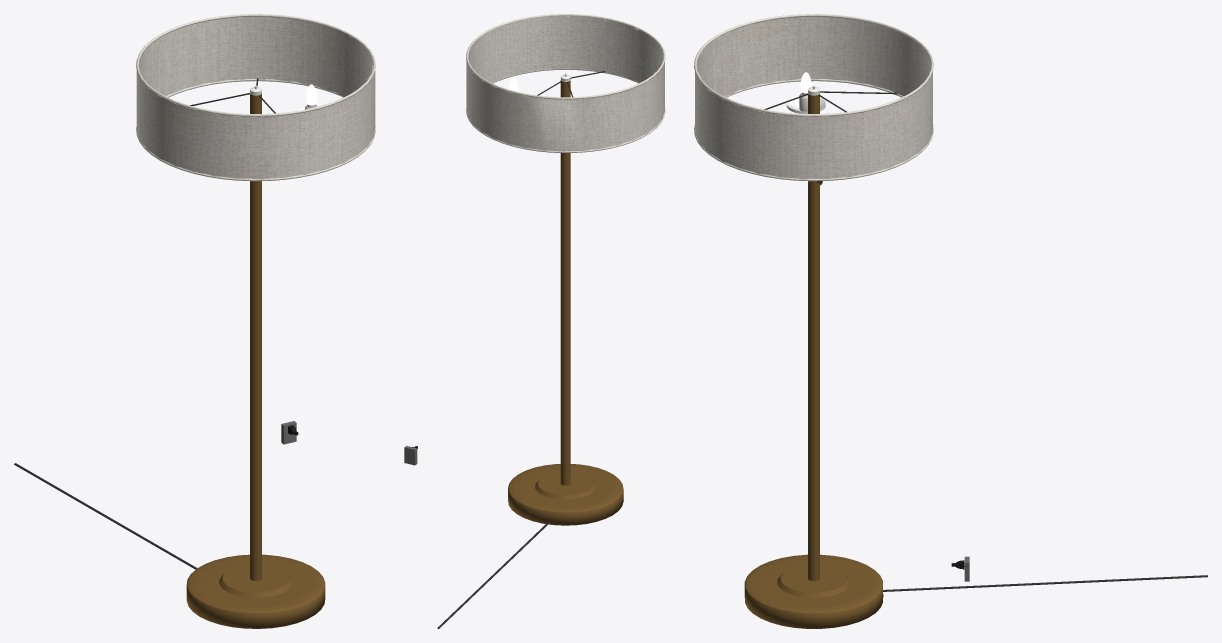
Rendered from standLight.gltf.
3 renders of one model, left to right at view 1: azimuth 30°, elevation 25°; view 2: azimuth 150°, elevation 25°; view 3: azimuth 270°, elevation 25°, orthographic. The views are drawn at different scales.
Parts seen in each view (by area): view 1: Standing Lamp, Cable; view 2: Standing Lamp, Cable; view 3: Standing Lamp, Cable.
Boxes of the visible parts, x1,y1,x2,y2 form: Standing Lamp: [136, 14, 375, 628]; Cable: [14, 463, 197, 569]; Standing Lamp: [466, 14, 665, 525]; Cable: [437, 522, 549, 628]; Standing Lamp: [694, 14, 933, 628]; Cable: [883, 575, 1207, 591].
Size of the model in its own units: 0.5485 by 1.28 by 1.11.
Materials: 9 (2 with a texture image).
